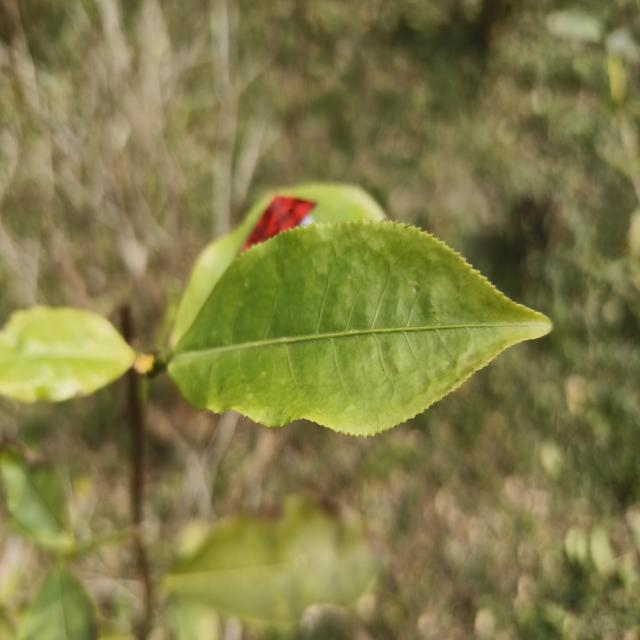Leaf: (167, 221, 550, 435), (170, 183, 385, 347), (164, 496, 380, 627), (0, 306, 136, 402), (0, 449, 73, 551), (16, 567, 98, 640)
